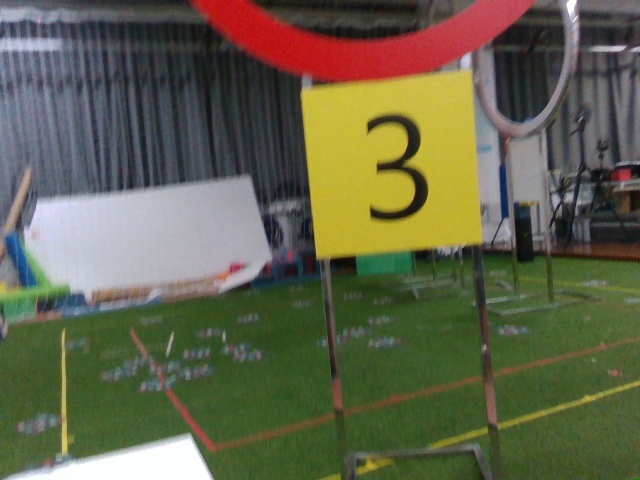target: (316, 82, 472, 244)
